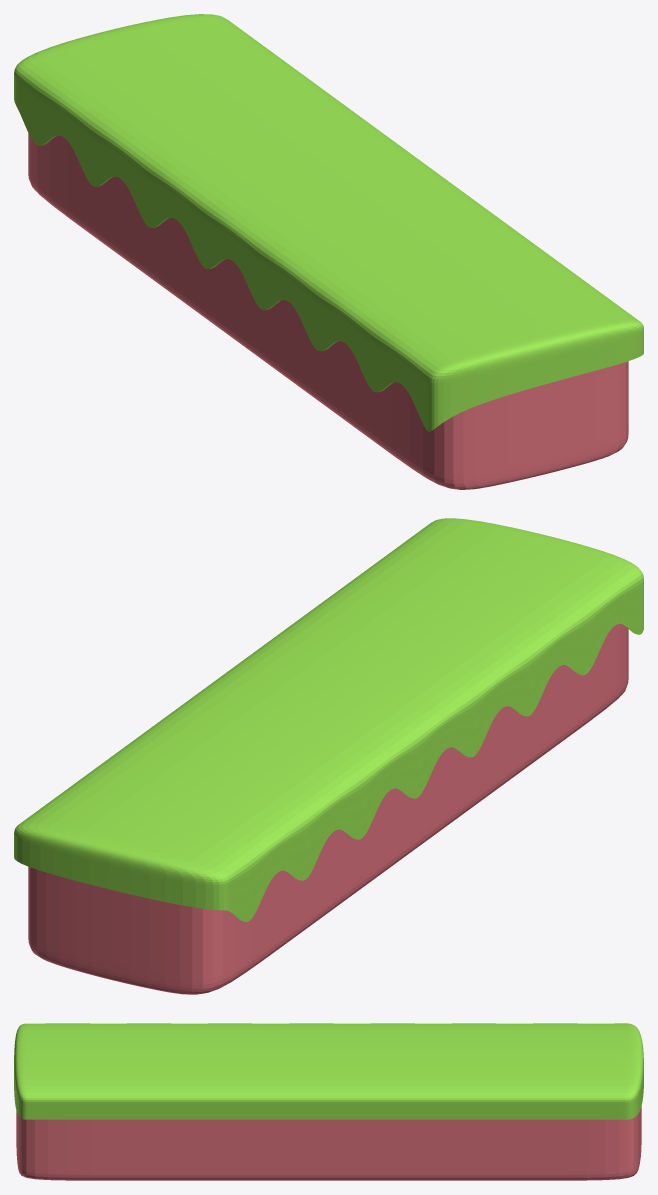
File: floor.gltf
The picture shows the model from 3 angles, top to bottom: view 1: azimuth 30°, elevation 25°; view 2: azimuth 150°, elevation 25°; view 3: azimuth 270°, elevation 25°; orthographic projection. The views are drawn at different scales.
Parts seen in each view (by area): view 1: grass, floor; view 2: grass, floor; view 3: grass, floor.
Part boxes in pixels (box(x1,y1,x2,y2)): grass: box(14, 14, 643, 431); floor: box(28, 133, 628, 489); grass: box(14, 518, 643, 921); floor: box(28, 624, 628, 994); grass: box(14, 1023, 643, 1119); floor: box(16, 1106, 641, 1180).
Bounding box in the file's own units: 3.35 × 2.02 × 11.82.
